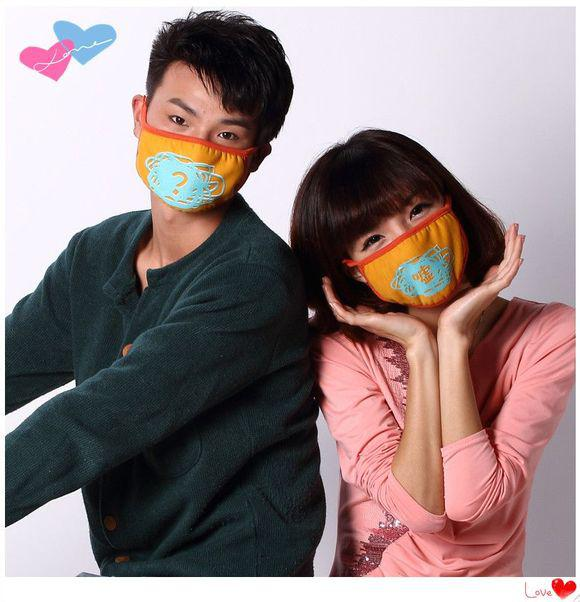OK: (141, 92, 256, 206), (356, 198, 471, 304)
